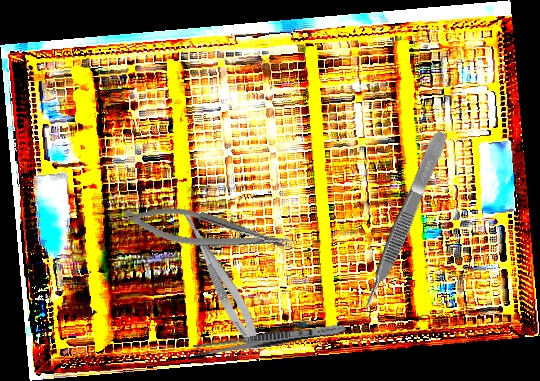Dressing Forceps: (192, 320, 347, 360)
Micro Scissor: (169, 200, 269, 355)
Needle Holder: (121, 196, 297, 267)
Tissue Forceps: (356, 128, 452, 311)
